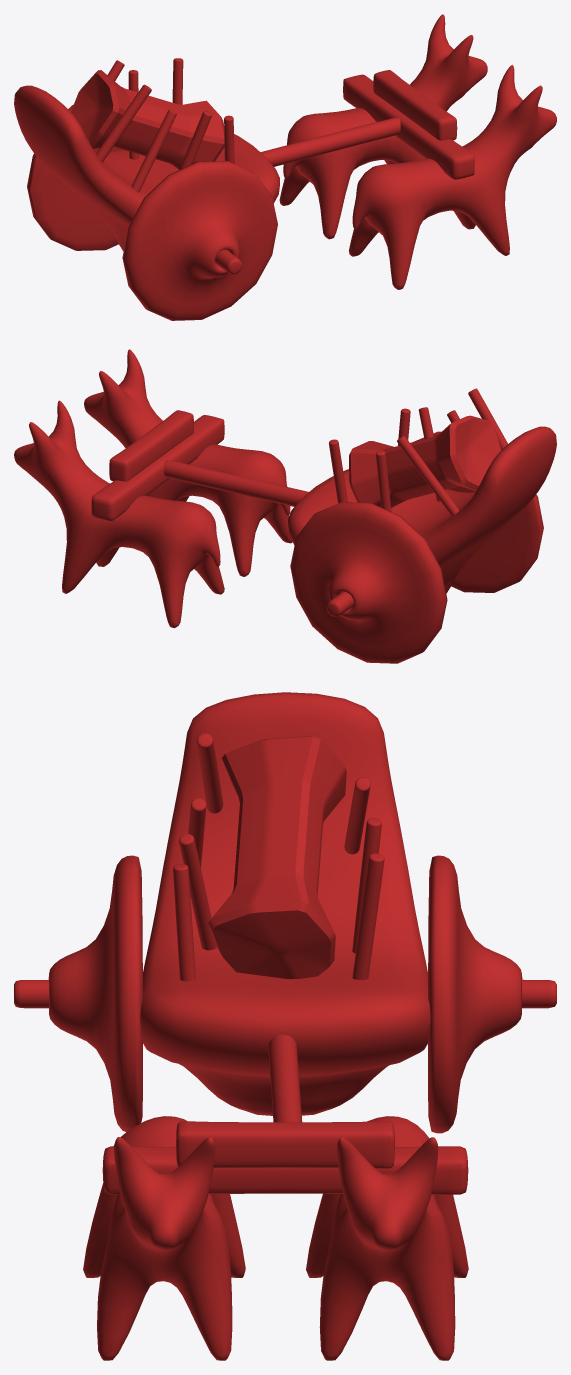
File: cart1.fbx
3 views of the same model, one above another, from view 1: azimuth 30°, elevation 25°; view 2: azimuth 150°, elevation 25°; view 3: azimuth 270°, elevation 25° (orthographic). The views are drawn at different scales.
Visible parts, largest first — view 1: polySurface33, polySurface21, polySurface23, polySurface36, polySurface22, polySurface35, polySurface20, polySurface30, polySurface26; view 2: polySurface20, polySurface36, polySurface23, polySurface21, polySurface22, polySurface35, polySurface33, polySurface30, polySurface26; view 3: polySurface23, polySurface21, polySurface22, polySurface36, polySurface35, polySurface20, polySurface33, polySurface26, polySurface30.
Part boxes in pixels (x1,y1,x2,y2): polySurface33: [122, 161, 277, 320]; polySurface21: [349, 65, 556, 289]; polySurface23: [14, 85, 279, 251]; polySurface36: [279, 14, 487, 239]; polySurface22: [71, 70, 224, 169]; polySurface35: [96, 58, 400, 274]; polySurface20: [27, 105, 119, 250]; polySurface30: [343, 74, 474, 179]; polySurface26: [373, 70, 457, 140]; polySurface20: [290, 502, 447, 663]; polySurface36: [14, 400, 224, 627]; polySurface23: [288, 426, 556, 593]; polySurface21: [84, 349, 292, 576]; polySurface22: [349, 415, 501, 507]; polySurface35: [164, 388, 507, 616]; polySurface33: [413, 431, 543, 592]; polySurface30: [91, 415, 224, 520]; polySurface26: [109, 410, 193, 481]; polySurface23: [140, 692, 430, 1115]; polySurface21: [83, 1116, 245, 1360]; polySurface22: [208, 736, 346, 979]; polySurface36: [306, 1116, 468, 1360]; polySurface35: [14, 733, 556, 1122]; polySurface20: [428, 855, 522, 1133]; polySurface33: [48, 855, 142, 1132]; polySurface26: [176, 1121, 394, 1168]; polySurface30: [102, 1146, 468, 1194].
Size of the model in its own units: 8.75 by 4.01 by 5.33.
